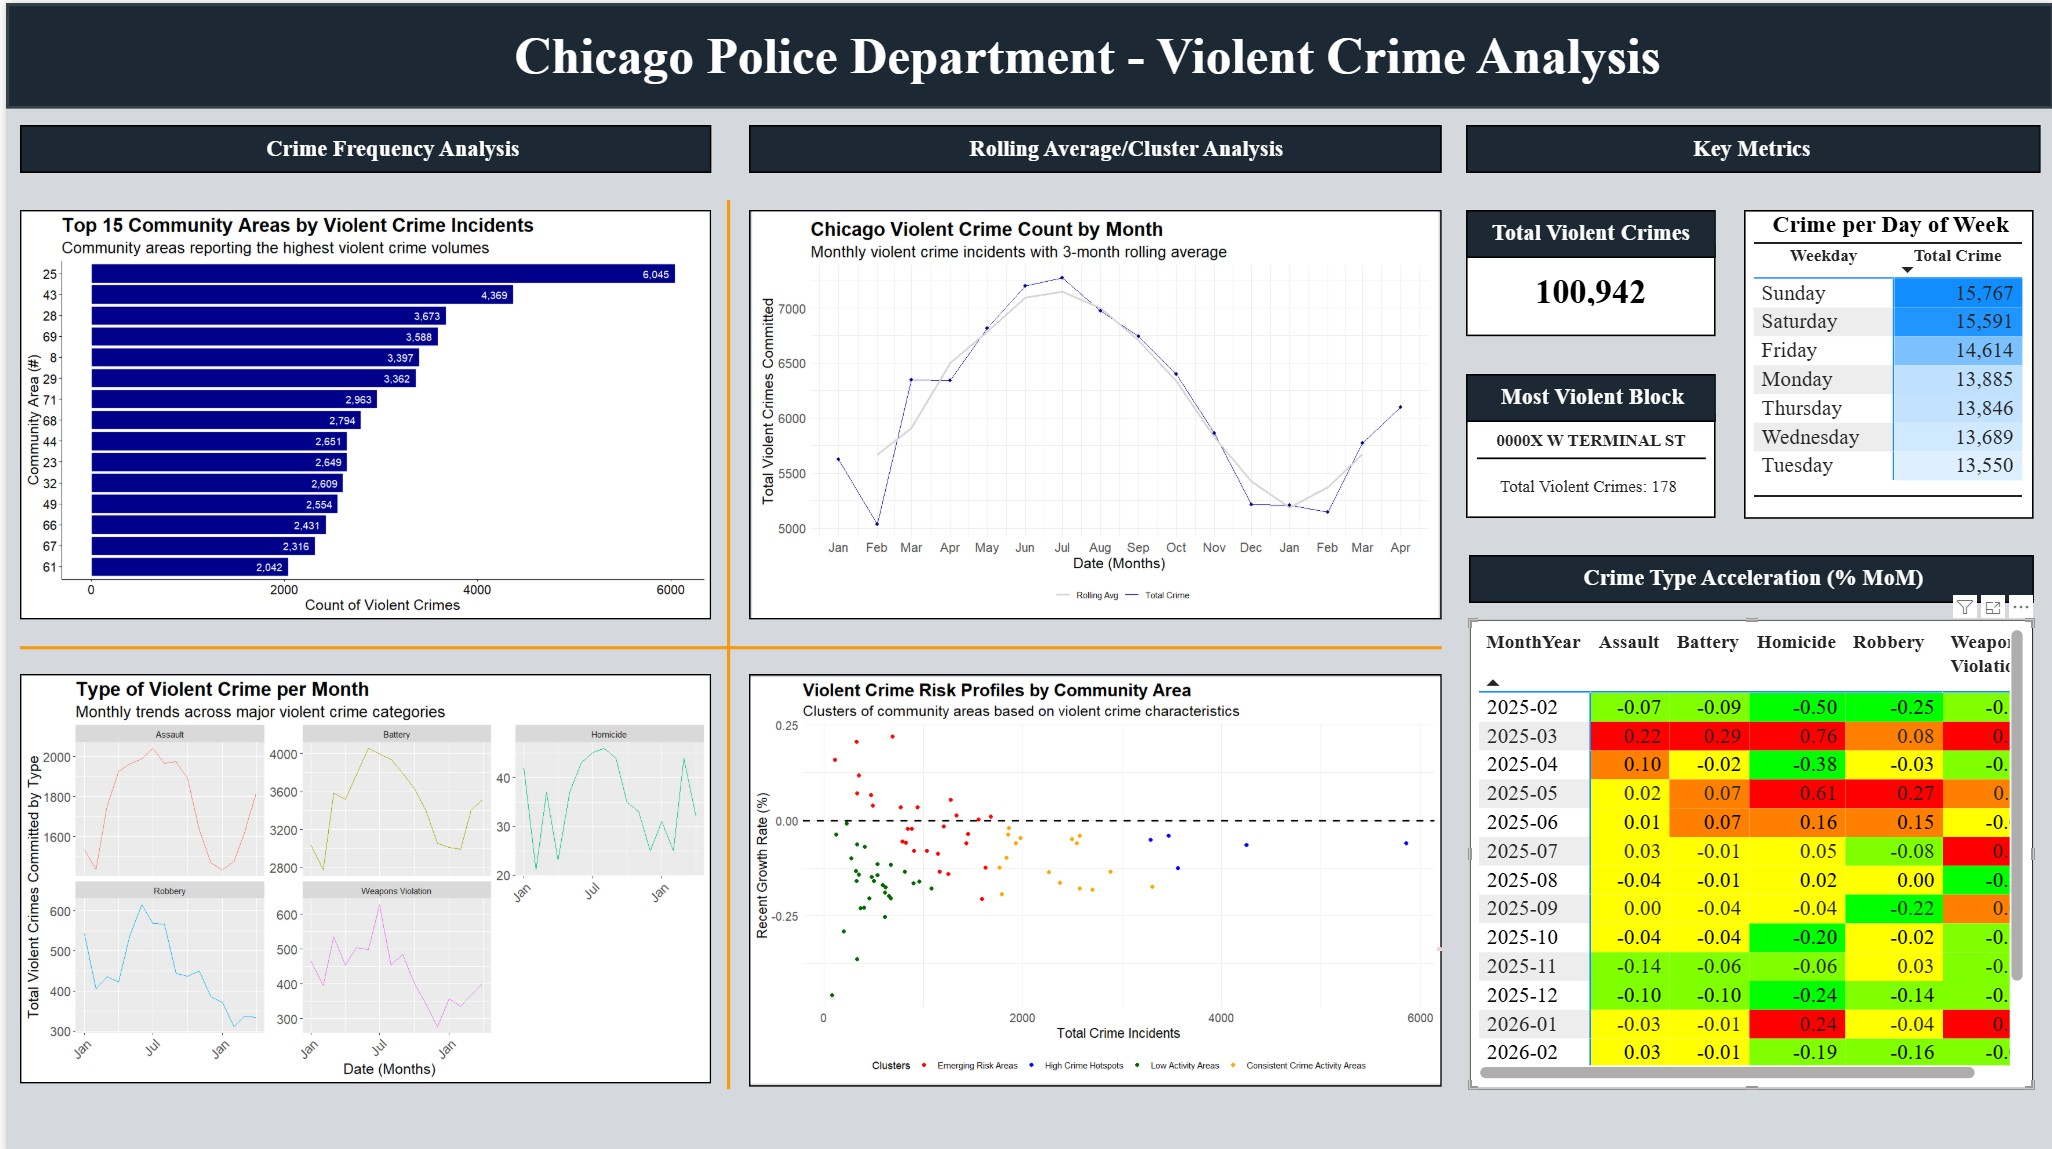

The page's visual inventory and layout, read from the dashboard file:
{"tool":"powerbi","page":{"name":"Page 1","canvas":[1280,720],"ordinal":0},"visuals":[{"type":"image","box":[464.6,129.3,432.9,255.7],"z":0},{"type":"image","box":[8.6,419.3,432.1,255.7],"z":1000},{"type":"image","box":[464.6,419.3,432.9,257.9],"z":2000},{"type":"shape","box":[0,0,1280,66.3],"z":3000},{"type":"textbox","box":[260.2,10,832.1,46.6],"z":4000},{"type":"shape","box":[8.6,76.4,432.1,30],"z":5000},{"type":"image","box":[8.6,129.3,432.1,255.7],"z":6000},{"type":"shape","box":[464.3,76.4,432.9,30],"z":7000},{"type":"textbox","box":[42.4,77.1,398.8,30],"z":8000},{"type":"shape","box":[8.6,397.1,888.6,12.1],"z":9000},{"type":"shape","box":[443.6,122.9,15.7,555.7],"z":10000},{"type":"textbox","box":[501.2,77.1,398.2,30],"z":11000},{"type":"shape","box":[912.5,76.2,359.4,30],"z":12000},{"type":"textbox","box":[976.4,77.1,230,30],"z":13000},{"type":"cardVisual","fields":{"Data":["Sum(Query1.Total Violent Crimes)"]},"box":[912.5,151.2,156.2,56.9],"z":14000},{"type":"shape","box":[914.4,345,353.1,30],"z":15000},{"type":"textbox","box":[962.5,345,259.4,30],"z":16000},{"type":"pivotTable","fields":{"Values":["Sum(Query3.MoM % Change)"],"Columns":["Query3.Primary Type"],"Rows":["Query3.MonthYear"]},"box":[914.1,385.2,353.2,293.7],"z":17000},{"type":"pivotTable","title":"Crime per Day of Week","fields":{"Rows":["Query5.Weekday Name"],"Values":["Sum(Query5.Count of Crime per Weekday)"]},"box":[1086.2,129.4,181.2,192.5],"z":18000},{"type":"textbox","box":[912.5,256.9,156.2,65],"z":19000},{"type":"shape","box":[919.5,278.1,143.3,12.9],"z":20000},{"type":"textbox","box":[928.8,286.9,123.8,29.4],"z":21000},{"type":"shape","box":[1092.5,143.8,167.5,12.5],"z":22000},{"type":"shape","box":[1092.5,301.9,167.5,12.5],"z":23000},{"type":"shape","box":[912.4,129.4,156.5,30],"z":24000},{"type":"textbox","box":[912.4,129.4,156.5,30],"z":25000},{"type":"shape","box":[912.4,231.8,156.5,30],"z":25001},{"type":"textbox","box":[912.9,231.8,156.5,30],"z":25002}]}

Visuals, with their boxes in screenshot pixels (x1, y1, x2, y2), scaled from the page's 1280x720 canvas onto the 2052x1149 screenshot:
image: 745/206/1439/614
image: 14/669/706/1077
image: 745/669/1439/1081
shape: 0/0/2051/106
textbox: 417/16/1751/90
shape: 14/122/706/170
image: 14/206/706/614
shape: 744/122/1438/170
textbox: 68/123/707/171
shape: 14/634/1438/653
shape: 711/196/736/1083
textbox: 803/123/1442/171
shape: 1463/122/2039/169
textbox: 1565/123/1934/171
cardVisual - Sum(Query1.Total Violent Crimes): 1463/241/1713/332
shape: 1466/551/2032/598
textbox: 1543/551/1959/598
pivotTable - Sum(Query3.MoM % Change) x Query3.Primary Type: 1465/615/2032/1083
"Crime per Day of Week" pivotTable: 1741/207/2032/514
textbox: 1463/410/1713/514
shape: 1474/444/1704/464
textbox: 1489/458/1687/505
shape: 1751/229/2020/249
shape: 1751/482/2020/502
shape: 1463/207/1714/254
textbox: 1463/207/1714/254
shape: 1463/370/1714/418
textbox: 1463/370/1714/418
